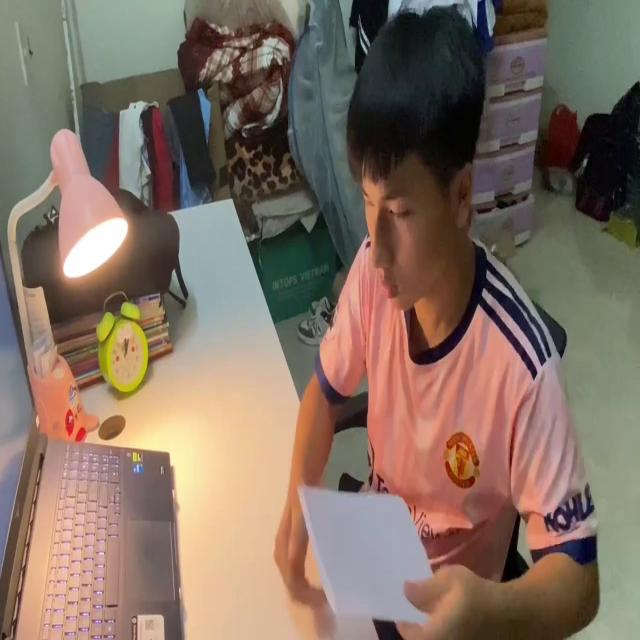book: (296, 478, 444, 637)
laptop: (1, 249, 183, 640)
student: (273, 3, 601, 640)
